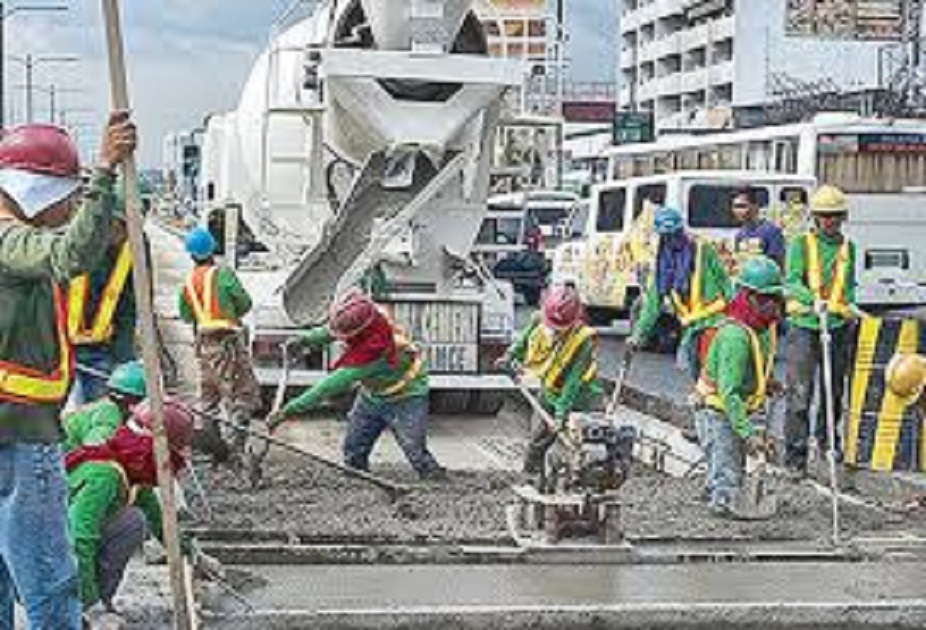Hard Hat: (3, 121, 86, 228), (127, 401, 198, 480), (731, 265, 783, 319), (324, 298, 383, 344), (806, 187, 850, 235), (539, 288, 584, 334), (107, 366, 149, 408), (183, 229, 222, 268), (656, 207, 687, 246)
Person: (1, 113, 139, 626), (268, 298, 443, 478), (71, 402, 205, 628), (496, 287, 609, 477), (697, 260, 775, 514), (792, 186, 858, 474), (174, 229, 256, 460), (634, 206, 728, 340), (72, 364, 147, 438), (723, 187, 786, 269)
Vest: (702, 305, 780, 418), (326, 322, 427, 405), (794, 220, 863, 330), (527, 314, 606, 391), (181, 255, 246, 337)
